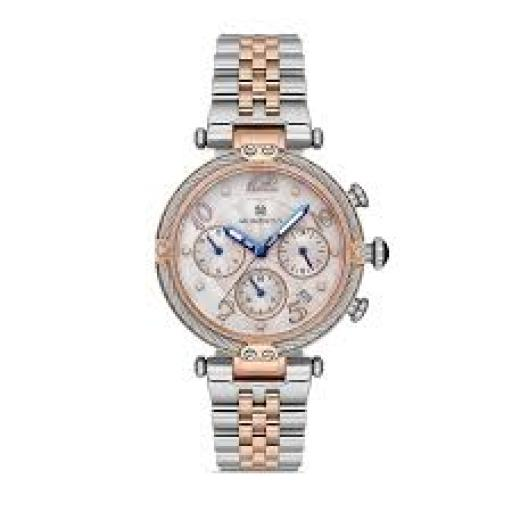KolSaati: (148, 16, 392, 495)
